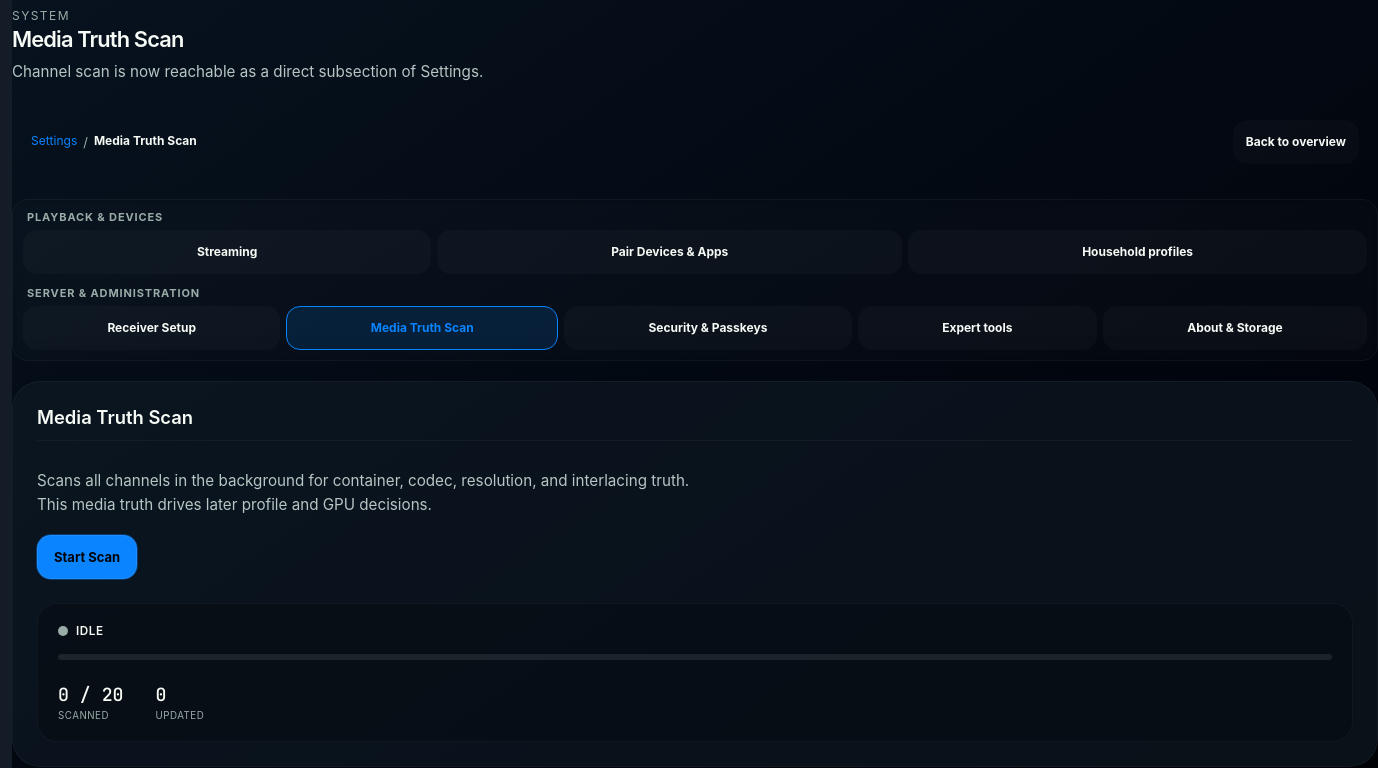
Test case: Settings › starts a scan and refetches scan status
This screenshot has width=1378, height=768.
Click the button "Start Scan" at [87, 557], box [37,535,137,579]
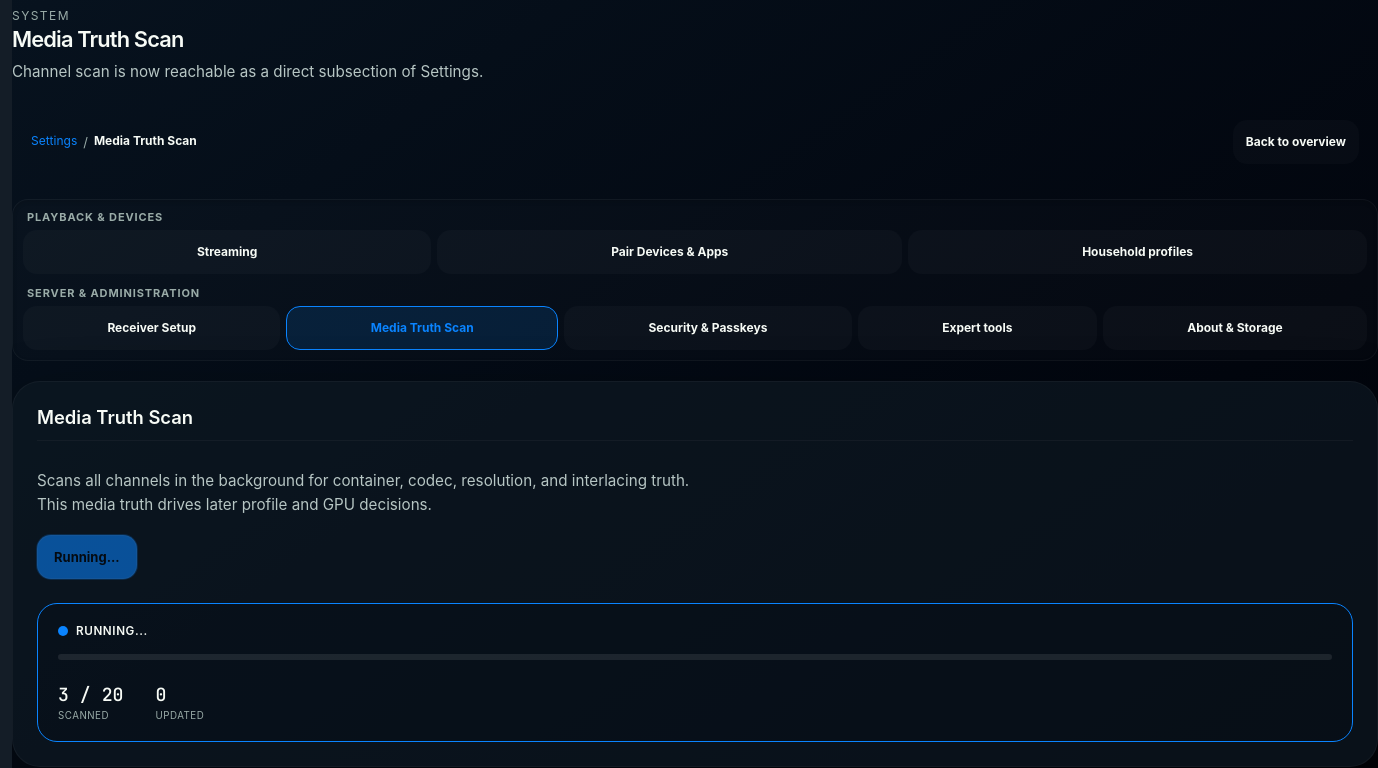
Check: the button "Running..." is disabled, box [37,535,137,579]
